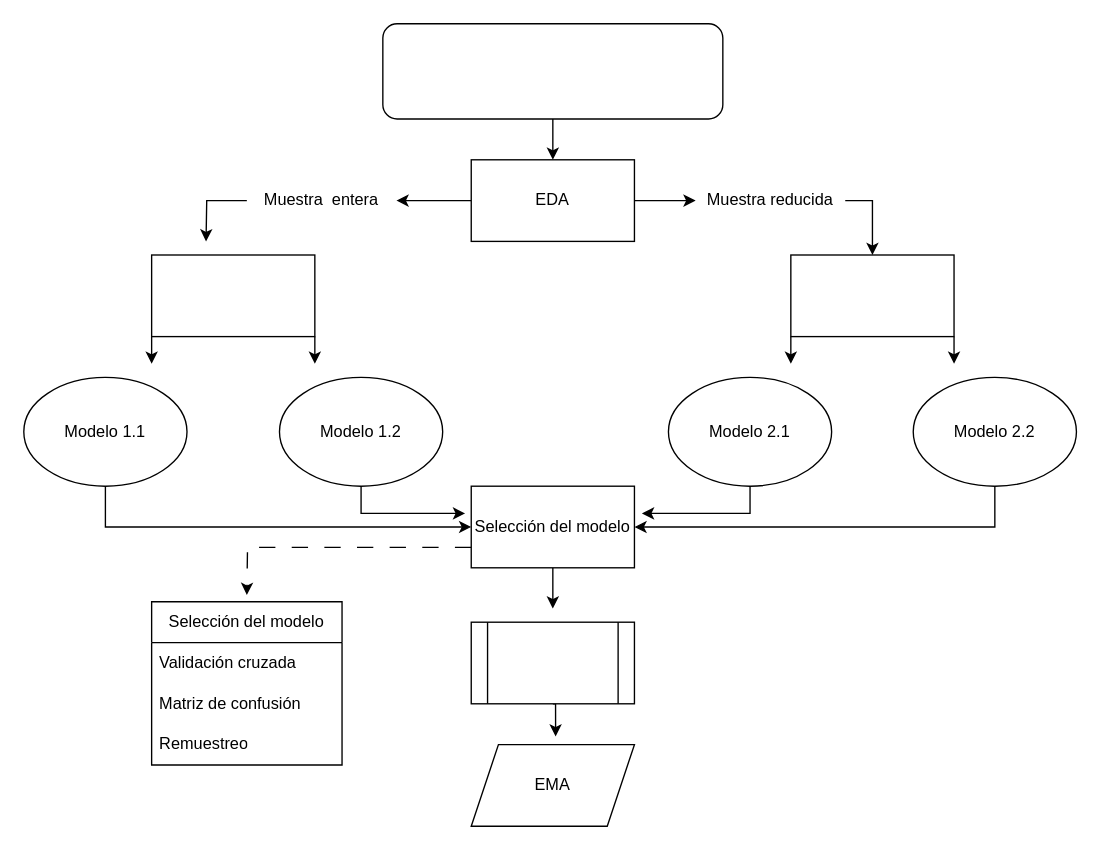
Some shapes in this 1100 by 850 pixel diagram are drawn without their labels. The box of each missing label's shape, as (x1, y1, x2, y2) in pixels:
Modelado: (381, 22, 723, 119)
Modelado 1: (150, 254, 315, 337)
Modelado 2: (789, 254, 954, 337)
Modelo aplicado (predicciones): (470, 621, 634, 704)
